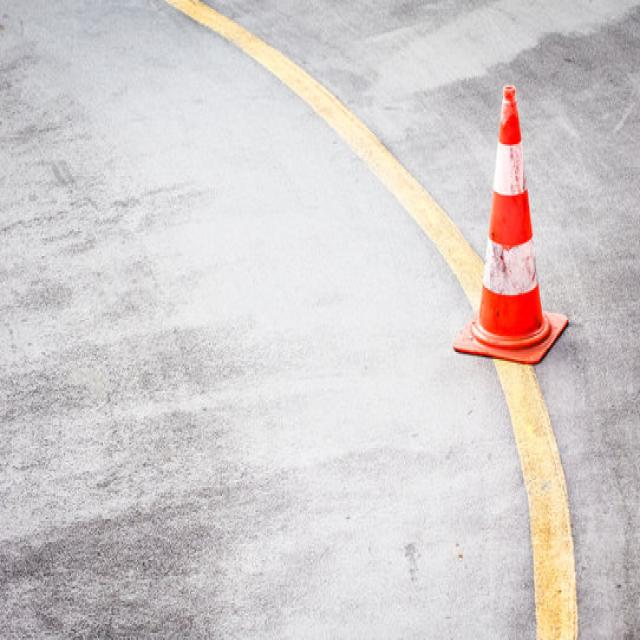Traffic Cone: (428, 46, 612, 454)
